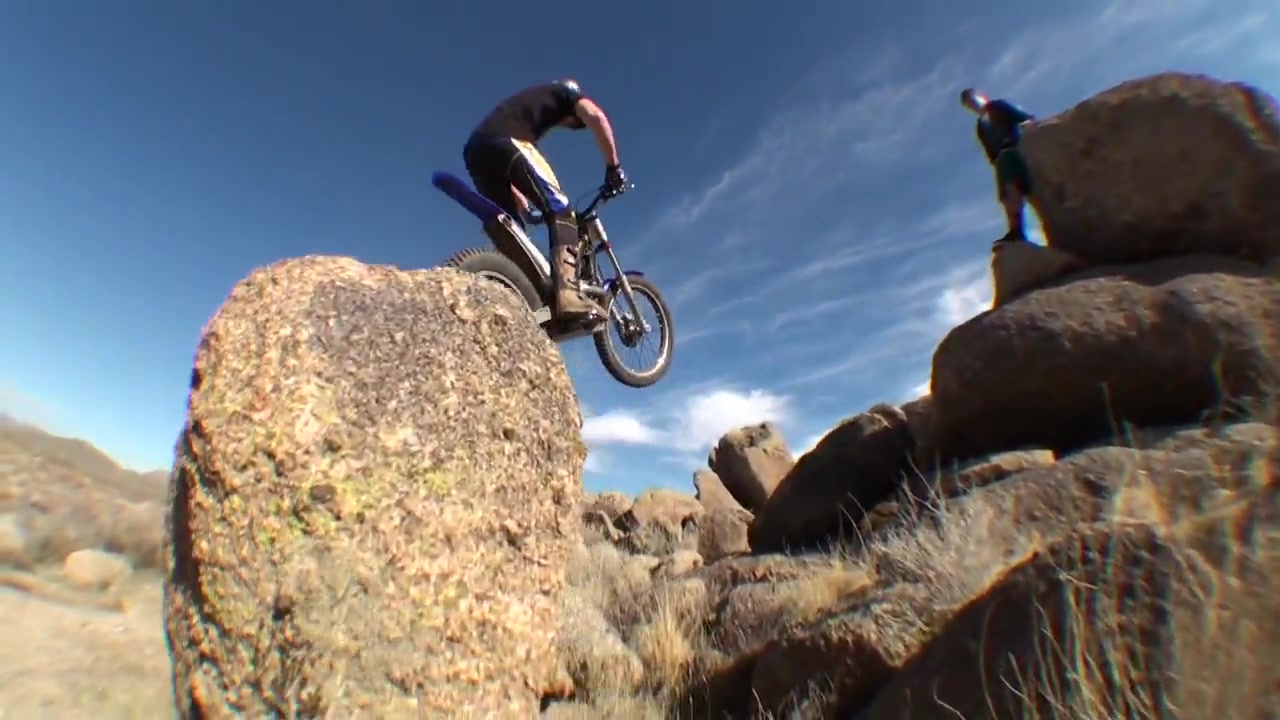motorbike: (427, 169, 680, 392)
